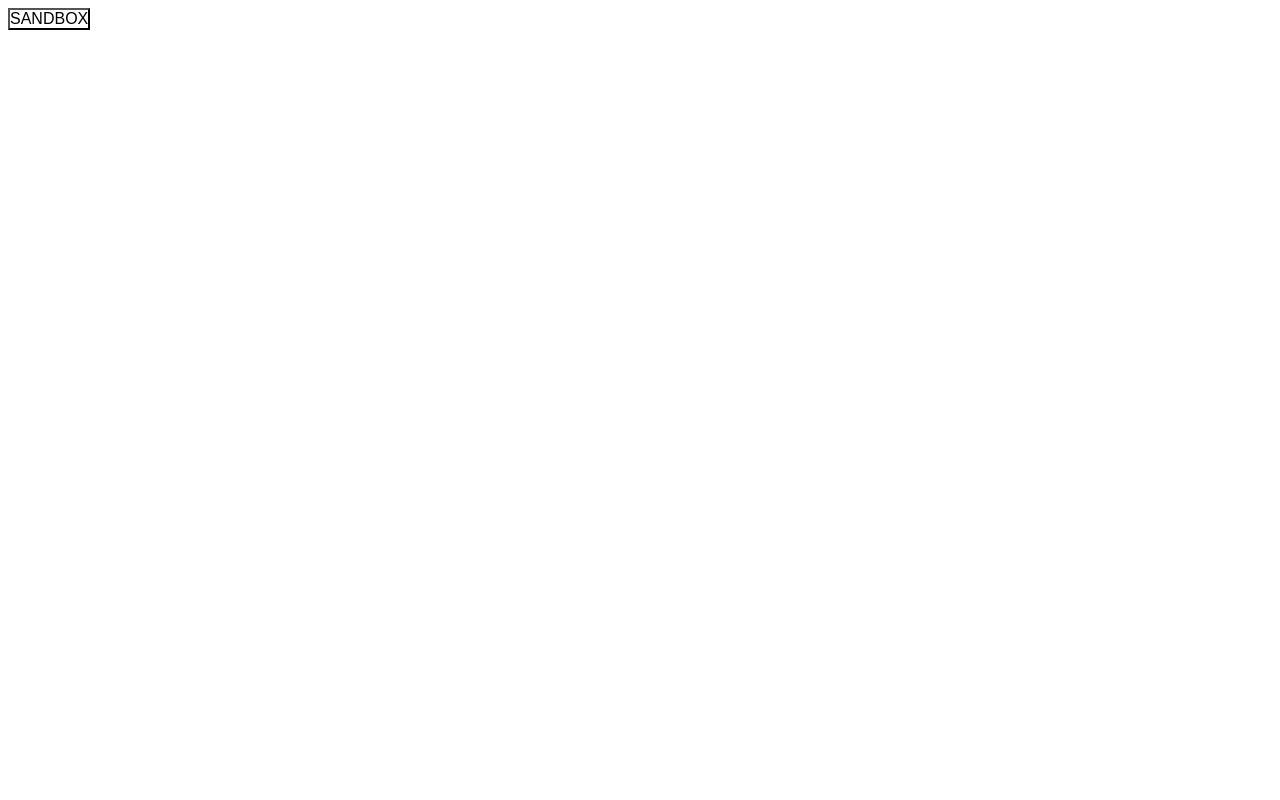
Test: inspect flyout closes on outside pointerdown and Escape
Later steps or results of the test are not shown.
Click the button with test id "user-pick-chip" at (49, 19), box [8,8,90,30]
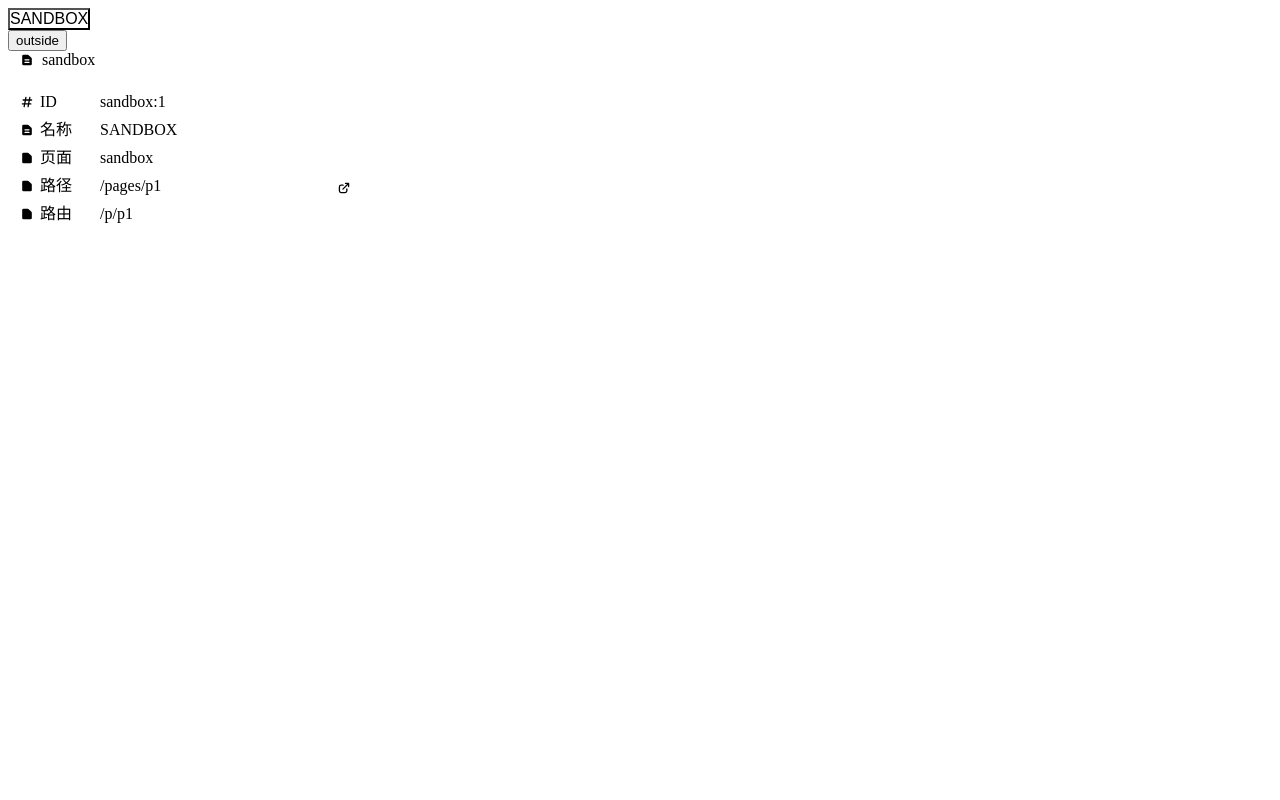
Check: the dialog with test id "pick-chip-data" is shown, box [8,40,368,236]
